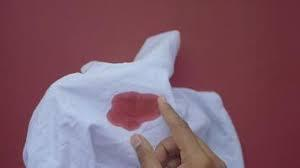blood: (107, 90, 158, 130)
